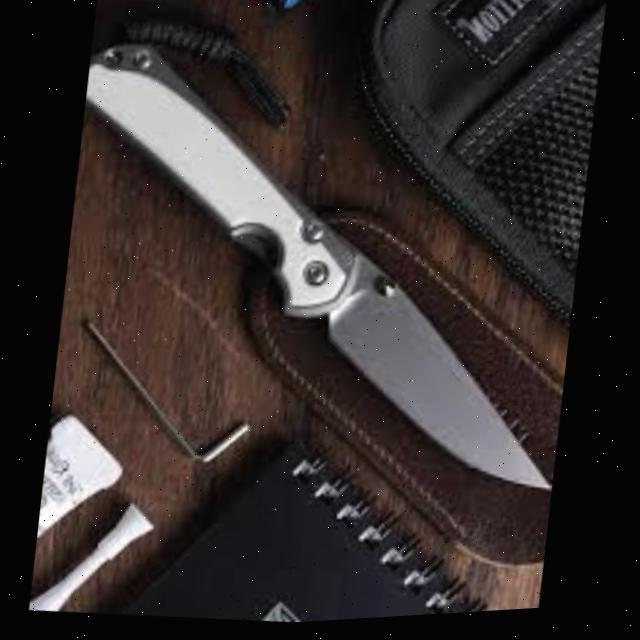knife: (45, 14, 600, 520), (28, 493, 158, 623)
